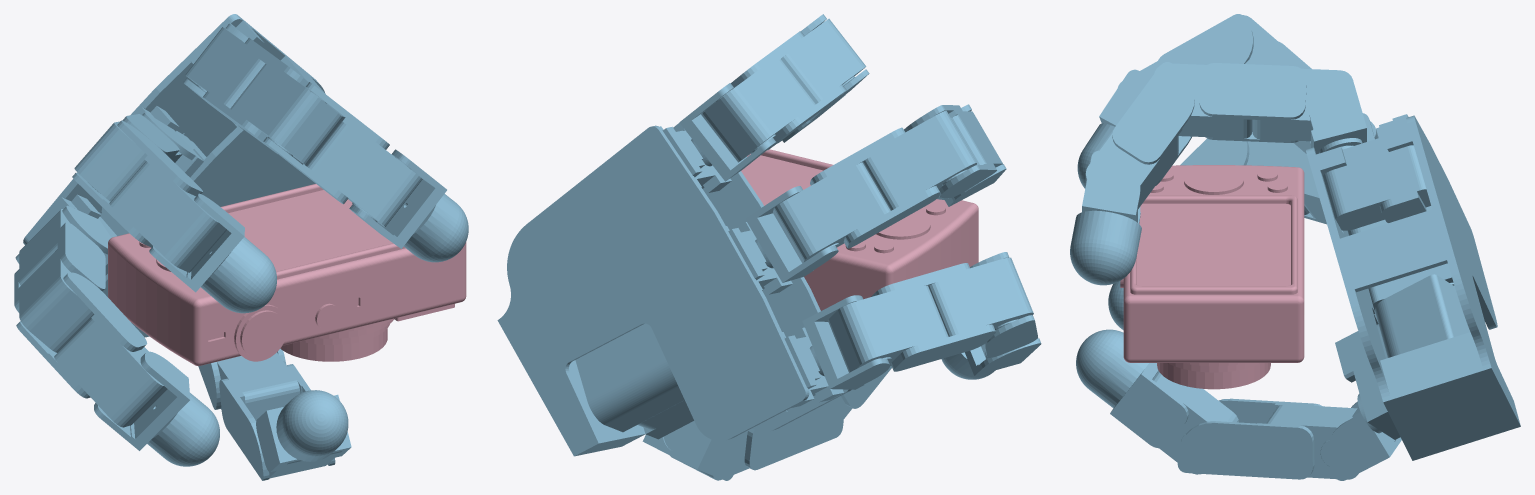
The picture shows the model from 3 angles, left to right: view 1: azimuth 30°, elevation 25°; view 2: azimuth 150°, elevation 25°; view 3: azimuth 270°, elevation 25°; orthographic projection.
Visible parts, largest first — view 1: world, camera.stl; view 2: world, camera.stl; view 3: world, camera.stl.
Part boxes in pixels (<box>): world: <box>14,14,468,480</box>; camera.stl: <box>108,184,466,365</box>; world: <box>497,14,1041,480</box>; camera.stl: <box>741,149,978,310</box>; world: <box>1070,14,1520,480</box>; camera.stl: <box>1120,165,1304,389</box>.
Bounding box in the file's own units: 0.1744 × 0.1599 × 0.1614.
